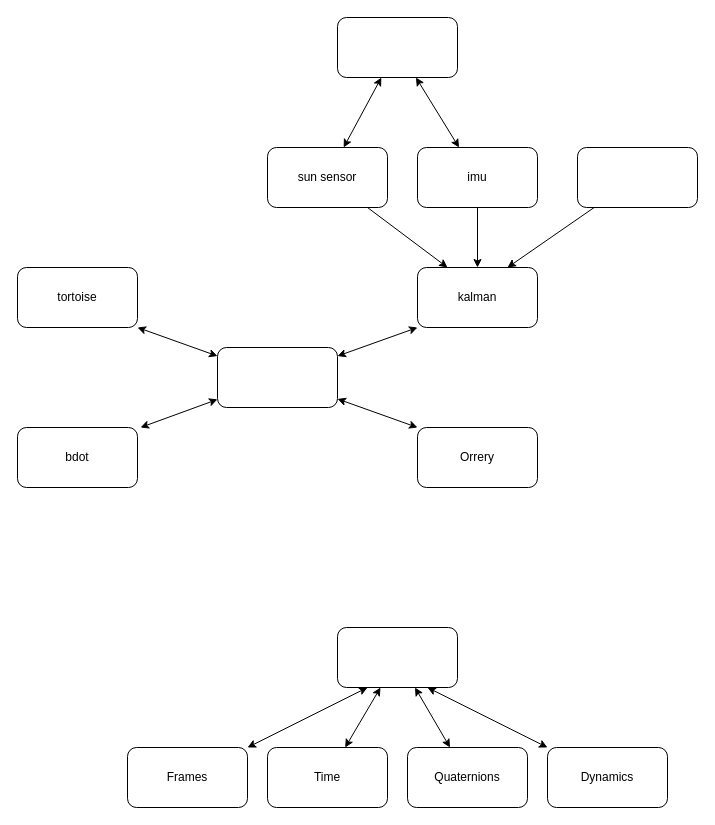
This 715x825 diagram has some shape labels left out. Each missing label, with the centre of its shape:
"gps" belongs at (x=637, y=177).
"state" belongs at (x=277, y=377).
"triad" belongs at (x=397, y=47).
"utils" belongs at (x=397, y=657).
